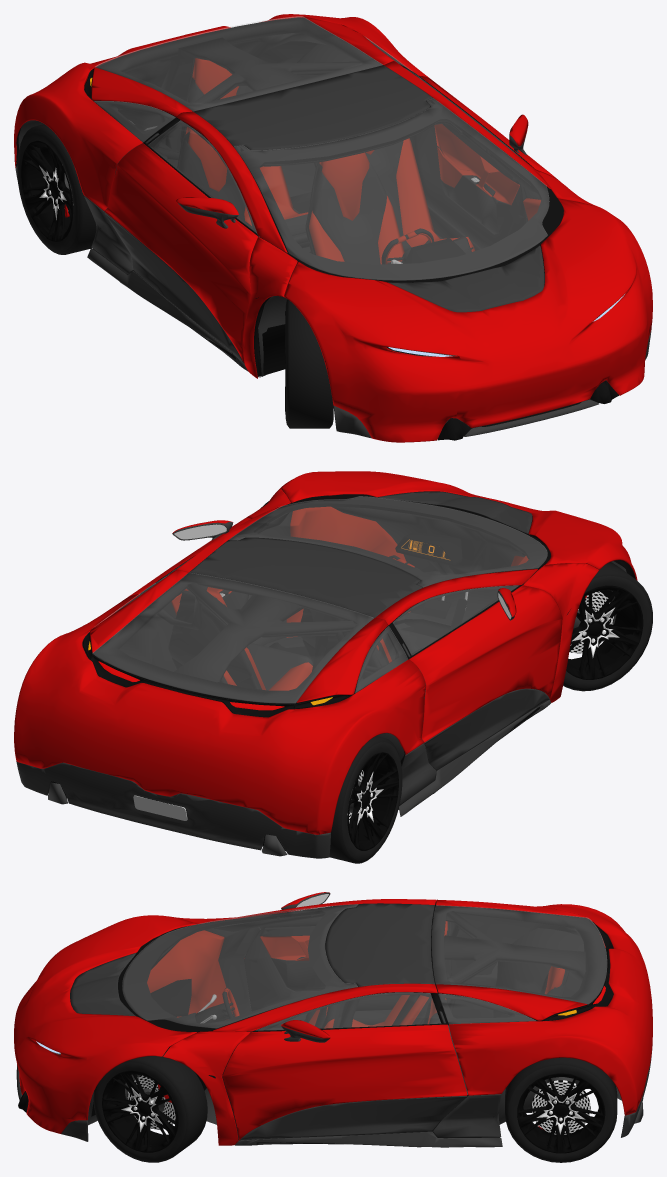
File: unity-car.glb
3 views of the same model, one above another, from view 1: azimuth 30°, elevation 25°; view 2: azimuth 150°, elevation 25°; view 3: azimuth 270°, elevation 25° (orthographic). The views are drawn at different scales.
Visible parts, largest first — view 1: BodyHood, BodyWindshield, BodyRearwindow, BodyDoorRColor1, BodyRearPanelsColor1, BodyWindshieldGasket, BodyRoofPanel, InteriorSeatsColor1, InteriorSeatsColor2, BodyPillars, InteriorPillar, InteriorRearHatch (+20 smaller); view 2: BodyRearPanelsColor1, BodyRearwindow, BodyWindshield, BodyDoorRColor1, BodyPanelsColor2, BodyRoofPanel, BodyHood, InteriorRearHatch, BodyPillars, InteriorPillar, BodyWindshieldGasket, InteriorDashMid (+22 smaller); view 3: BodyWindshield, BodyRearPanelsColor1, BodyDoorLColor1, BodyHood, BodyRearwindow, BodyRoofPanel, BodyPillars, BodyWindshieldGasket, BodyDoorLColor2, BodyPanelsColor2, WheelFrontL, InteriorRearHatch (+24 smaller).
Part boxes in pixels (x1=…): BodyHood: x1=284, y1=198, x2=652, y2=442; BodyWindshield: x1=234, y1=98, x2=549, y2=280; BodyRearwindow: x1=95, y1=16, x2=382, y2=110; BodyDoorRColor1: x1=104, y1=143, x2=257, y2=363; BodyRearPanelsColor1: x1=14, y1=14, x2=428, y2=210; BodyWindshieldGasket: x1=234, y1=99, x2=563, y2=282; BodyRoofPanel: x1=193, y1=65, x2=432, y2=150; InteriorSeatsColor1: x1=185, y1=58, x2=474, y2=264; InteriorSeatsColor2: x1=180, y1=78, x2=471, y2=264; BodyPillars: x1=176, y1=61, x2=599, y2=378; InteriorPillar: x1=158, y1=37, x2=434, y2=168; InteriorRearHatch: x1=94, y1=17, x2=383, y2=118; BodyRearPanelsColor1: x1=14, y1=569, x2=425, y2=834; BodyRearwindow: x1=93, y1=573, x2=373, y2=703; BodyWindshield: x1=229, y1=496, x2=547, y2=587; BodyDoorRColor1: x1=409, y1=585, x2=562, y2=742; BodyPanelsColor2: x1=16, y1=700, x2=550, y2=858; BodyRoofPanel: x1=189, y1=537, x2=422, y2=617; BodyHood: x1=279, y1=471, x2=637, y2=580; InteriorRearHatch: x1=93, y1=573, x2=386, y2=707; BodyPillars: x1=175, y1=489, x2=599, y2=702; InteriorPillar: x1=174, y1=574, x2=417, y2=682; BodyWindshieldGasket: x1=230, y1=495, x2=550, y2=587; InteriorDashMid: x1=331, y1=502, x2=528, y2=622; BodyWindshield: x1=122, y1=904, x2=357, y2=1028; BodyRearPanelsColor1: x1=436, y1=899, x2=652, y2=1115; BodyDoorLColor1: x1=222, y1=1024, x2=467, y2=1140; BodyHood: x1=14, y1=915, x2=196, y2=1133; BodyRearwindow: x1=432, y1=905, x2=606, y2=1003; BodyRoofPanel: x1=326, y1=903, x2=434, y2=986; BodyPillars: x1=163, y1=899, x2=437, y2=1145; BodyWindshieldGasket: x1=118, y1=905, x2=357, y2=1032; BodyDoorLColor2: x1=240, y1=1096, x2=466, y2=1140; BodyPanelsColor2: x1=16, y1=1045, x2=652, y2=1147; WheelFrontL: x1=93, y1=1054, x2=207, y2=1162; InteriorRearHatch: x1=431, y1=905, x2=606, y2=1020.
Bounding box in the file's own units: 2.54 × 1.15 × 4.36.
Materials: 23 (2 with a texture image).
